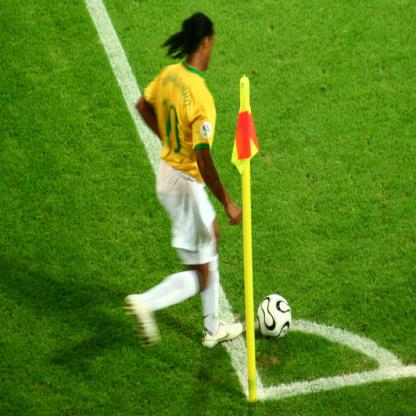corner kick: (117, 5, 389, 415)
